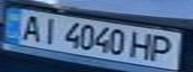0: (109, 27, 130, 56), (78, 22, 96, 52)
4: (60, 19, 84, 49), (90, 25, 112, 54)
A: (15, 11, 45, 43)
H: (127, 29, 157, 61)
I: (36, 16, 63, 44)
P: (148, 33, 181, 64)
